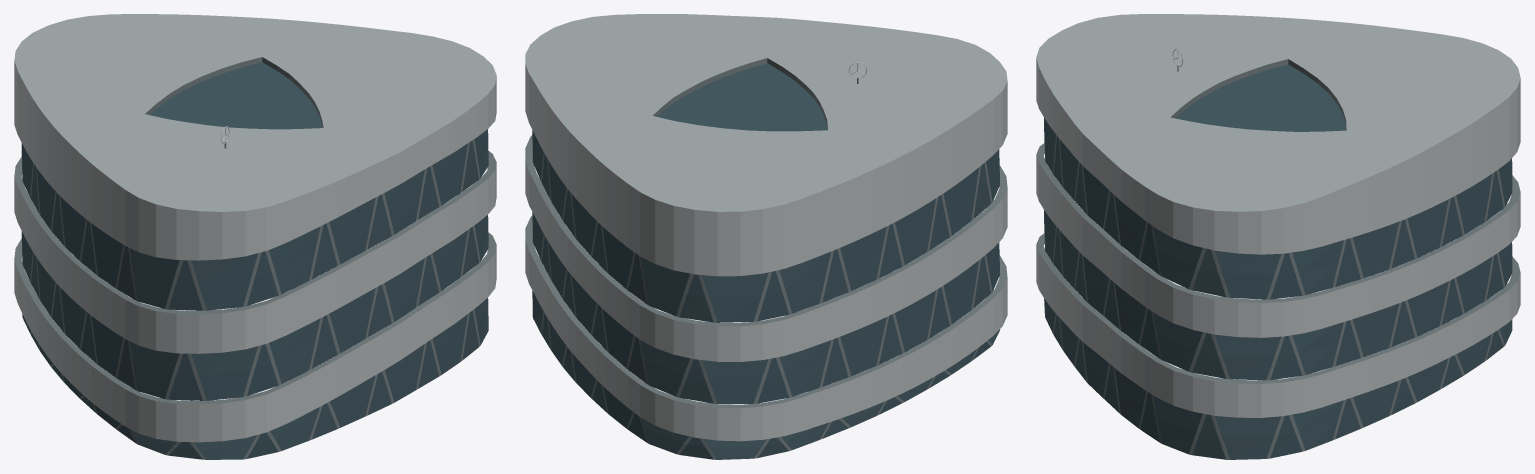
File: mercedes-benz-museum-far.glb
3 views of the same model, side by side, from view 1: azimuth 30°, elevation 25°; view 2: azimuth 150°, elevation 25°; view 3: azimuth 270°, elevation 25° (orthographic).
Parts seen in each view (by area): view 1: mercedes-benz-museum-0-roof, mercedes-benz-museum-0-aluminium, mercedes-benz-museum-0-glow, mercedes-benz-museum-0-frame; view 2: mercedes-benz-museum-0-aluminium, mercedes-benz-museum-0-roof, mercedes-benz-museum-0-glow, mercedes-benz-museum-0-frame; view 3: mercedes-benz-museum-0-glow, mercedes-benz-museum-0-roof, mercedes-benz-museum-0-aluminium, mercedes-benz-museum-0-frame.
Part boxes in pixels (box(x1,y1,x2,y2)): mercedes-benz-museum-0-roof: box(14, 14, 496, 211); mercedes-benz-museum-0-aluminium: box(14, 61, 496, 442); mercedes-benz-museum-0-glow: box(21, 62, 488, 459); mercedes-benz-museum-0-frame: box(14, 57, 496, 459); mercedes-benz-museum-0-aluminium: box(525, 64, 1007, 441); mercedes-benz-museum-0-roof: box(525, 14, 1007, 211); mercedes-benz-museum-0-glow: box(532, 63, 1000, 459); mercedes-benz-museum-0-frame: box(525, 58, 1007, 459); mercedes-benz-museum-0-glow: box(1044, 64, 1512, 459); mercedes-benz-museum-0-roof: box(1036, 14, 1520, 211); mercedes-benz-museum-0-aluminium: box(1036, 58, 1520, 417); mercedes-benz-museum-0-frame: box(1036, 59, 1520, 459).
Size of the model in its own units: 79.99 by 51.55 by 82.75.
